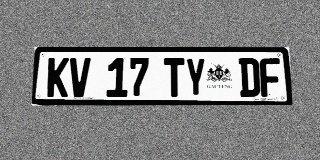1: (106, 58, 128, 97)
7: (128, 58, 149, 97)
D: (239, 58, 260, 97)
F: (259, 58, 281, 97)
K: (47, 58, 69, 97)
T: (164, 58, 185, 97)
V: (68, 58, 91, 97)
Y: (185, 58, 206, 97)
